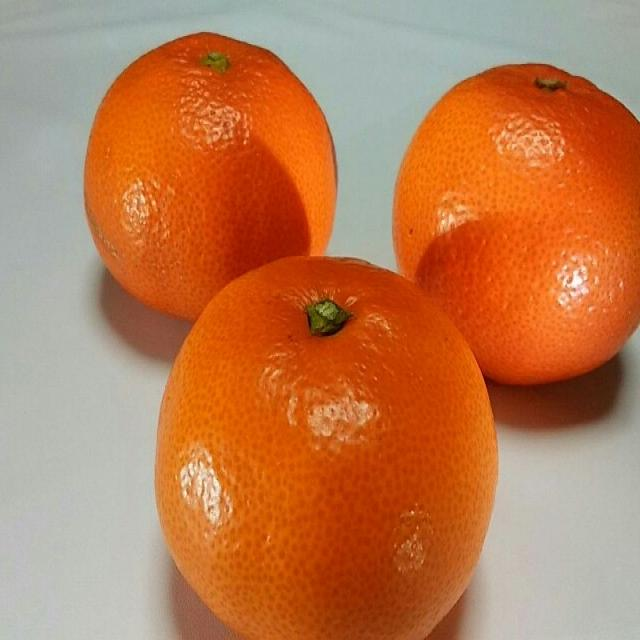Orange: (156, 257, 502, 640), (396, 61, 640, 384), (84, 31, 340, 323)
